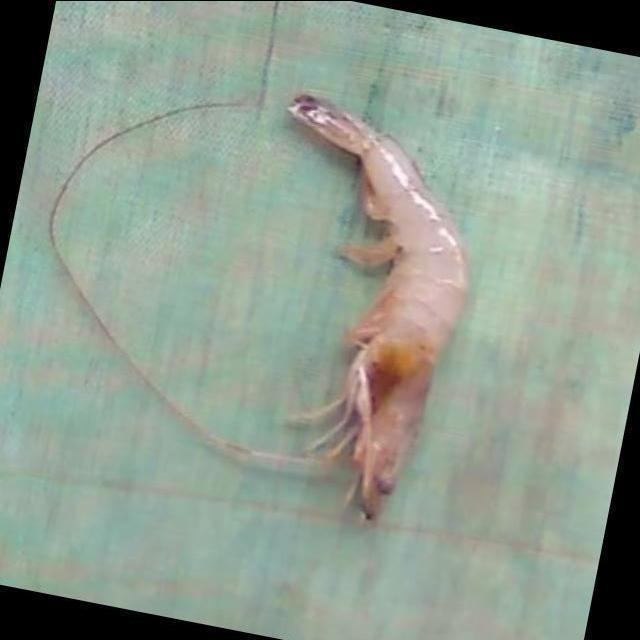shrimp: (289, 93, 468, 521)
